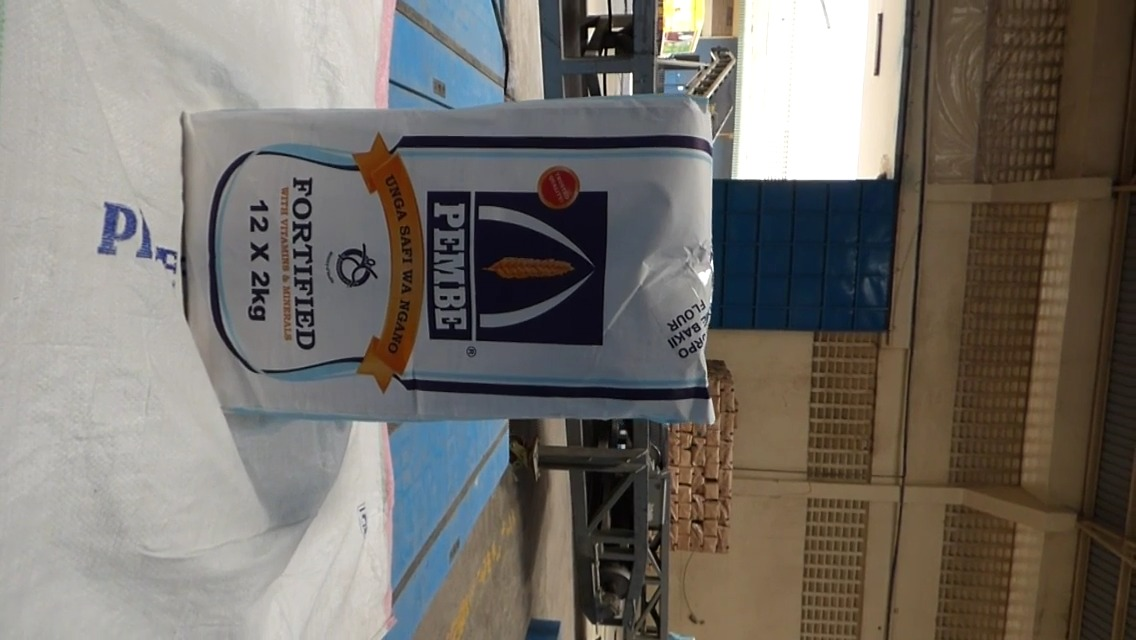wheat_flour_blue_label: (187, 97, 714, 423)
